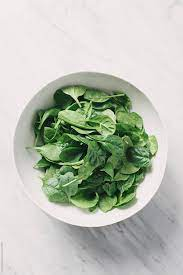spinach: (55, 100, 142, 198)
